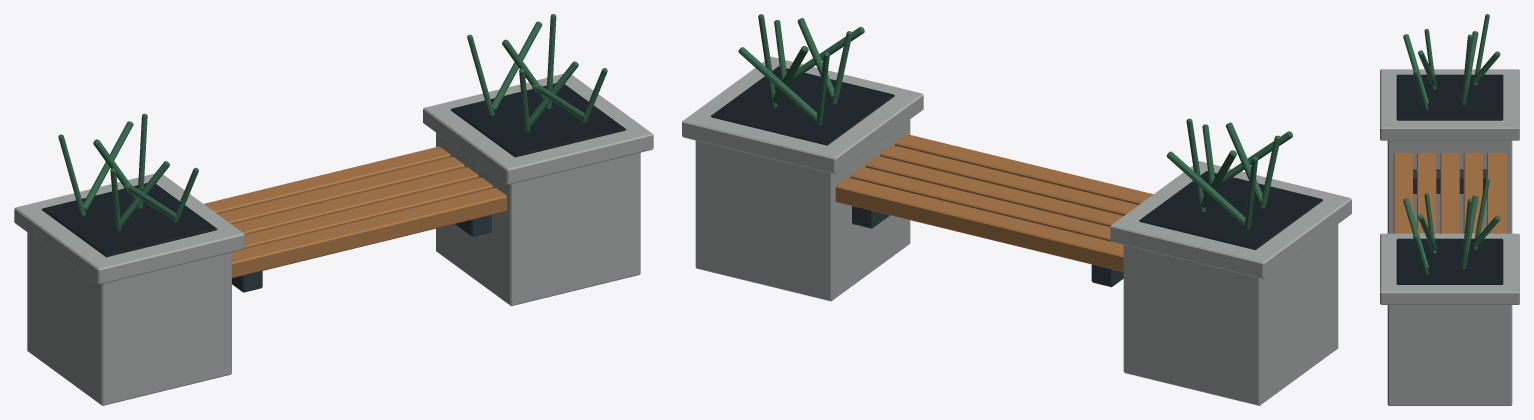
The model's file is b01_planter_integrated_sidewalk_seat.glb.
The picture shows the model from 3 angles, left to right: view 1: azimuth 30°, elevation 25°; view 2: azimuth 150°, elevation 25°; view 3: azimuth 270°, elevation 25°; orthographic projection. The views are drawn at different scales.
Parts seen in each view (by area): view 1: b01_planter_integrated_sidewalk_seat; view 2: b01_planter_integrated_sidewalk_seat; view 3: b01_planter_integrated_sidewalk_seat.
Boxes of the visible parts, left/top/right/bottom form: b01_planter_integrated_sidewalk_seat: left=14, top=14, right=653, bottom=405; b01_planter_integrated_sidewalk_seat: left=682, top=14, right=1351, bottom=405; b01_planter_integrated_sidewalk_seat: left=1380, top=14, right=1519, bottom=405.
Size of the model in its own units: 2.72 by 1.09 by 0.72.
